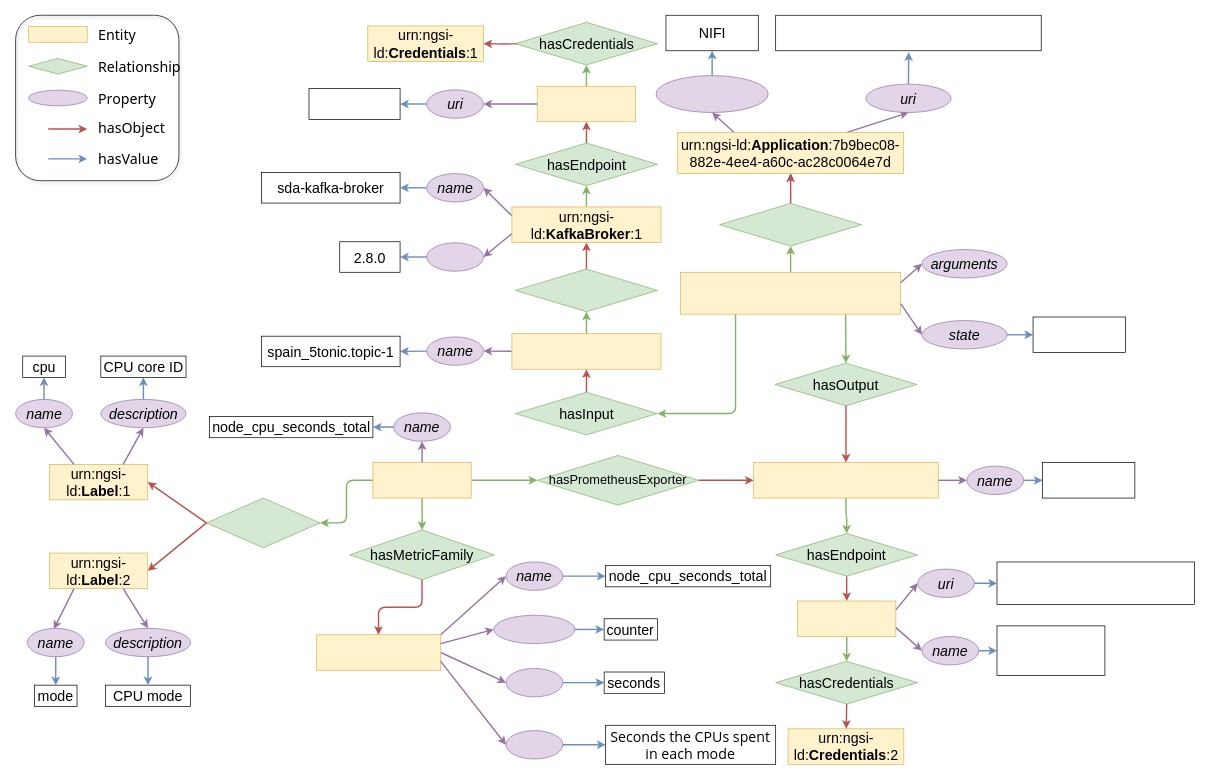
Some shapes in this 1207 by 777 pixel diagram are drawn without their labels. Here are the shapes that lost their labels. From the top down, the centre of each, then its label:
At point 908,33: "https://app-manager:8080/catalog/ nifi/templates/MetricTargetExporter.xml".
At point 354,104: "kafka:9092".
At point 586,104: "urn:ngsi-ld: Endpoint :1".
At point 711,94: "applicationType".
At point 790,224: "hasApplication".
At point 455,256: "version".
At point 586,290: "hasKafkaBroker".
At point 790,293: "urn:ngsi-ld: Task :51154456-9834-4eea-947e-d6754b73e48e".
At point 586,351: "urn:ngsi-ld: KafkaTopic :1".
At point 1078,334: "RUNNING".
At point 421,480: "urn:ngsi-ld: Metric :1".
At point 845,480: "urn:ngsi-ld: PrometheusExporter :1".
At point 1088,480: "prometheus-exporter".
At point 263,522: "hasLabels".
At point 1095,583: "https://SDA-IP: 8444/metrics/demo-endpoint".
At point 534,629: "metricType".
At point 846,618: "urn:ngsi-ld: Endpoint :2".
At point 378,652: "urn:ngsi-ld: MetricFamily :1".
At point 1050,650: "prometheus-exporter-endpoint".
At point 534,682: "unit".
At point 534,744: "help".
